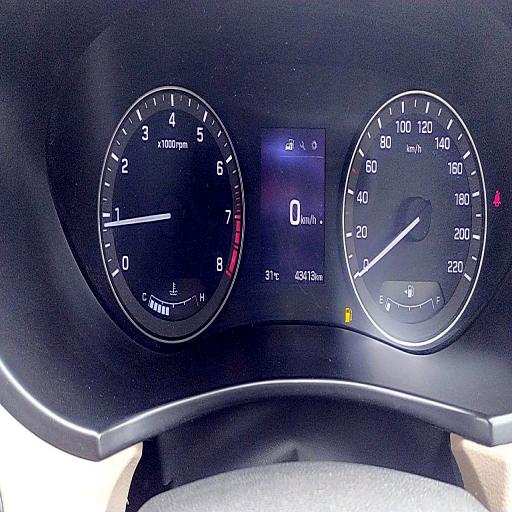belt: (493, 189, 501, 208)
tachometer: (98, 84, 245, 344)
